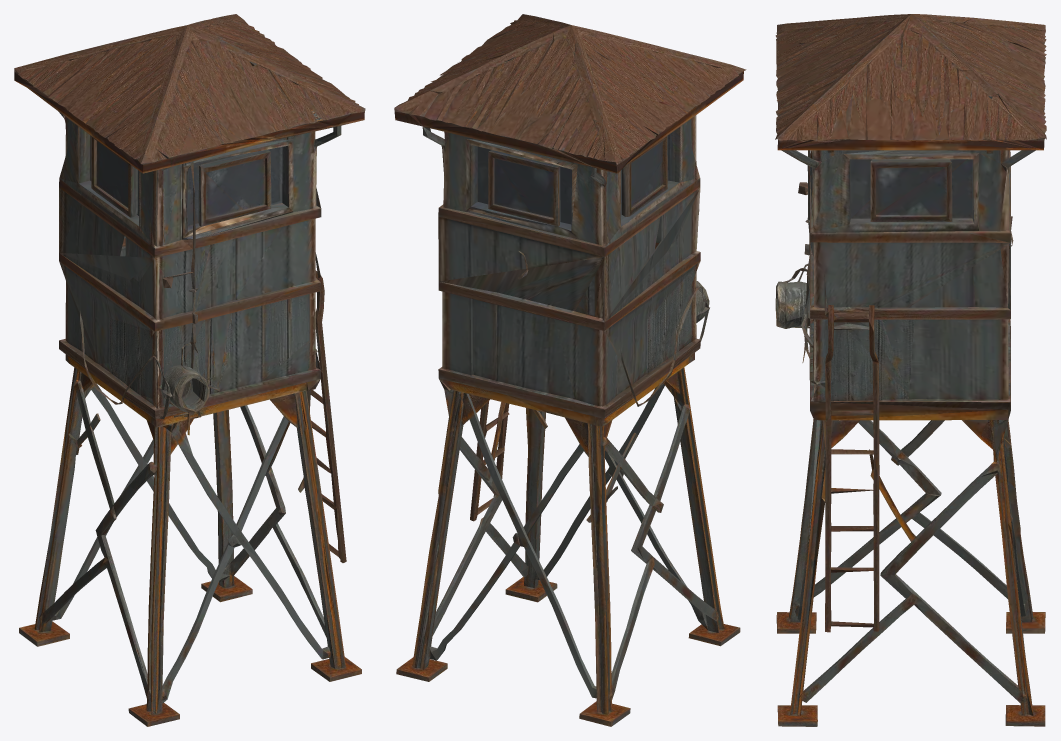
File: military_watchtower.glb
The picture shows the model from 3 angles, left to right: view 1: azimuth 30°, elevation 25°; view 2: azimuth 150°, elevation 25°; view 3: azimuth 270°, elevation 25°; orthographic projection. The views are drawn at different scales.
Size of the model in its own units: 0.7258 by 1.9 by 0.714.
Materials: 1 (1 with a texture image).
